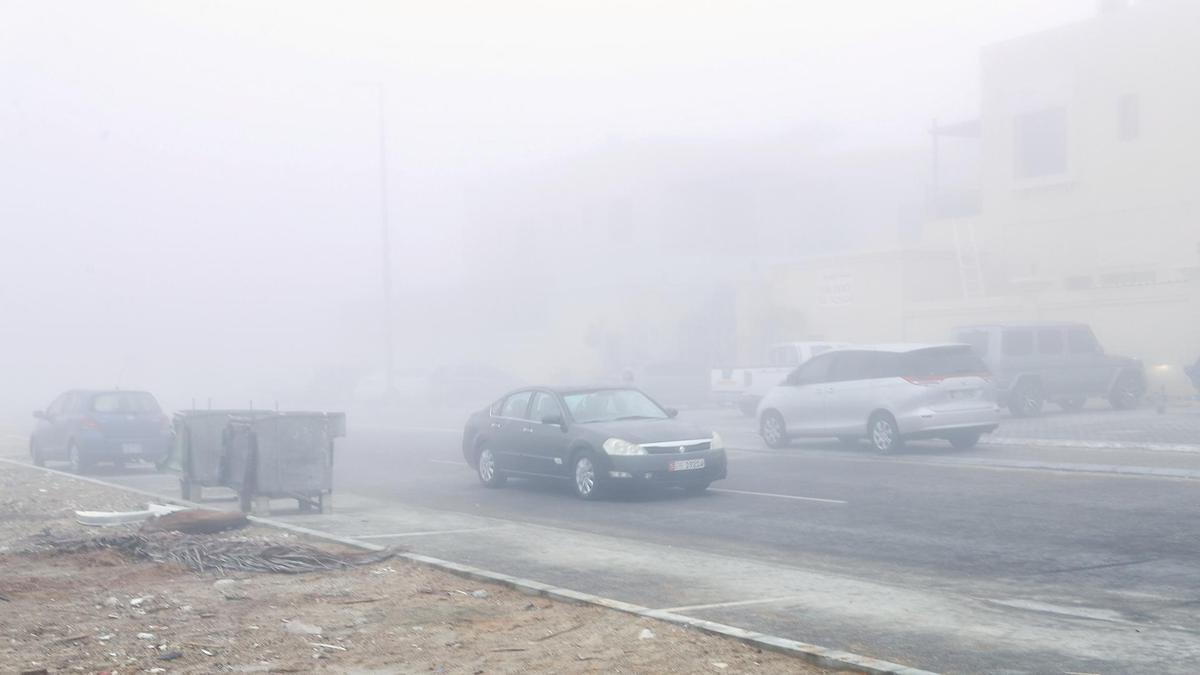car: (465, 382, 720, 500), (748, 358, 1006, 454), (951, 325, 1148, 419), (28, 388, 170, 474), (702, 338, 849, 415)
